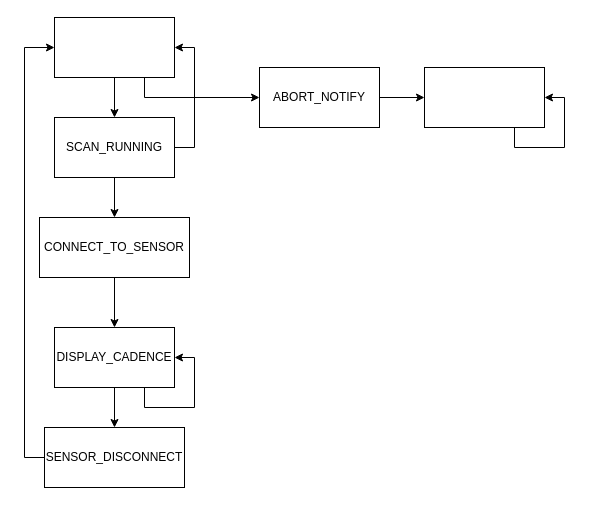
The diagram is 590 pixels wide and 505 high, and some of its shapes have lost their labels. Each missing label, with the centre of its shape:
ABORT: (x=484, y=97)
SCAN_DEVICES: (x=114, y=47)
